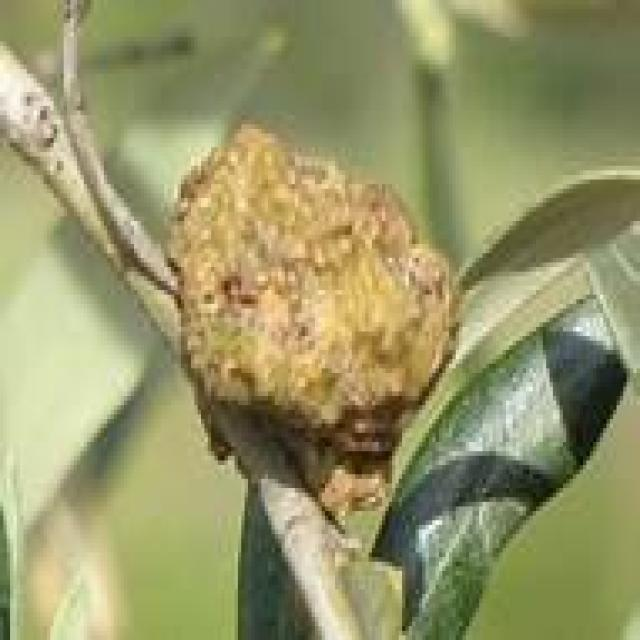Tuberculosis: (171, 120, 452, 529)
